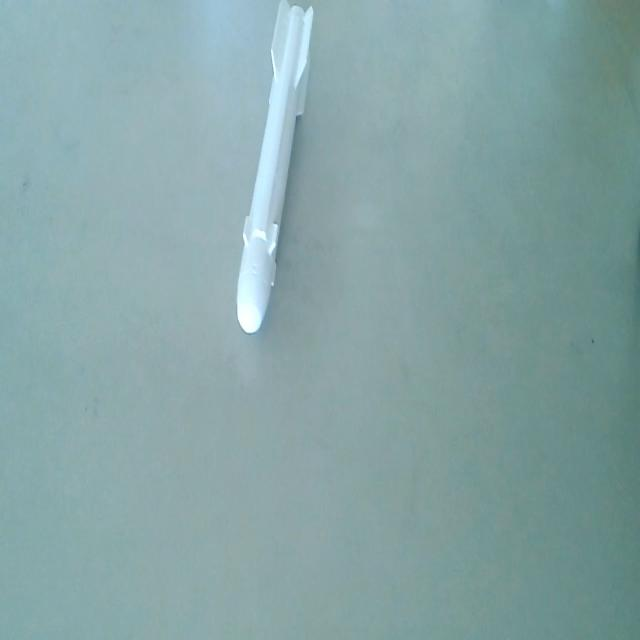Rocket: (235, 0, 318, 339)
